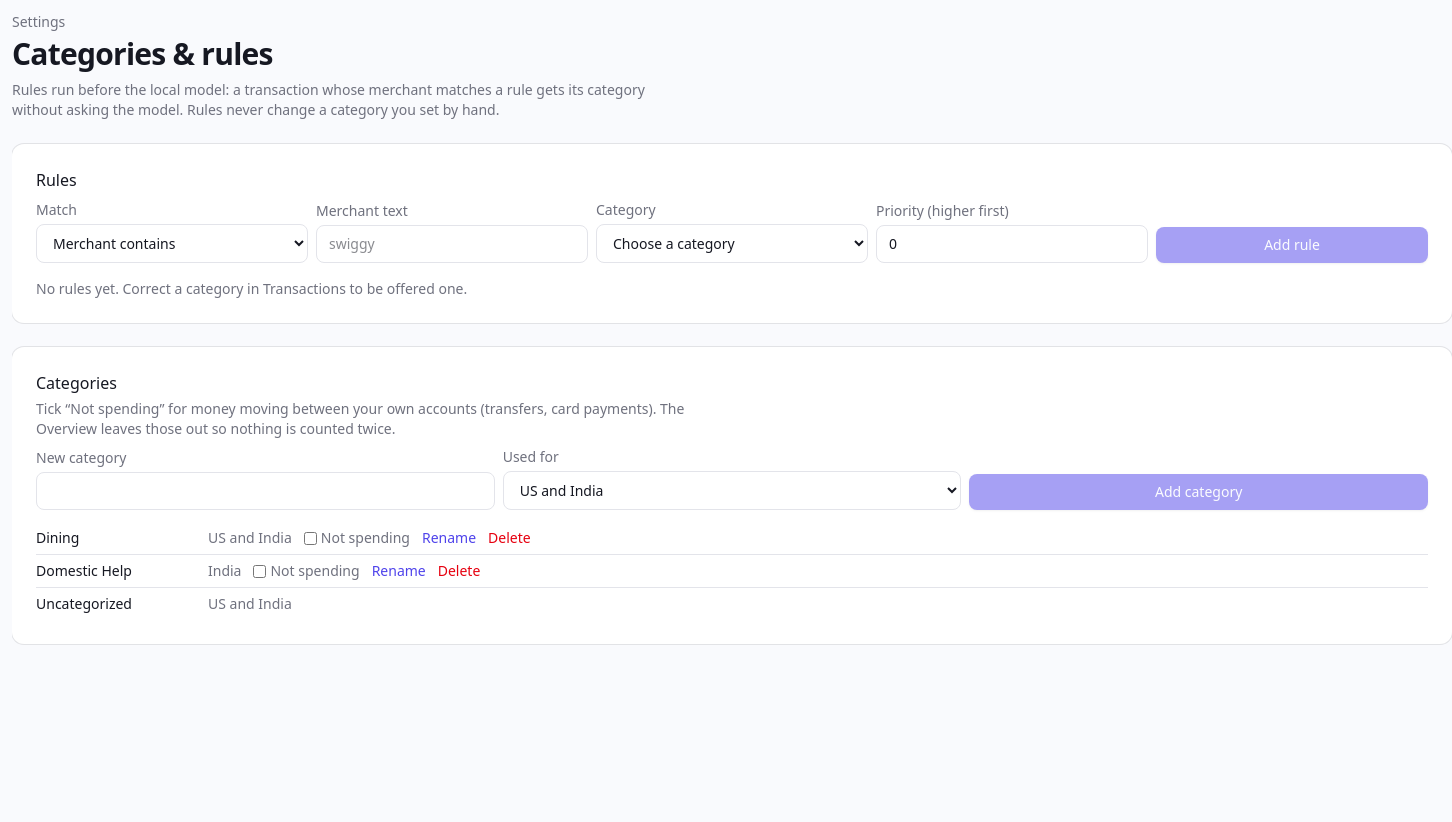
a category can be left out of spending totals
This screenshot has width=1452, height=822.
Expected: the button with aria-label "Rename Dining" is shown, [422,528,476,548]
Click the checkbox labelled "Not spending" in the row of "Dining" at x=310, y=538, box [304,532,317,544]
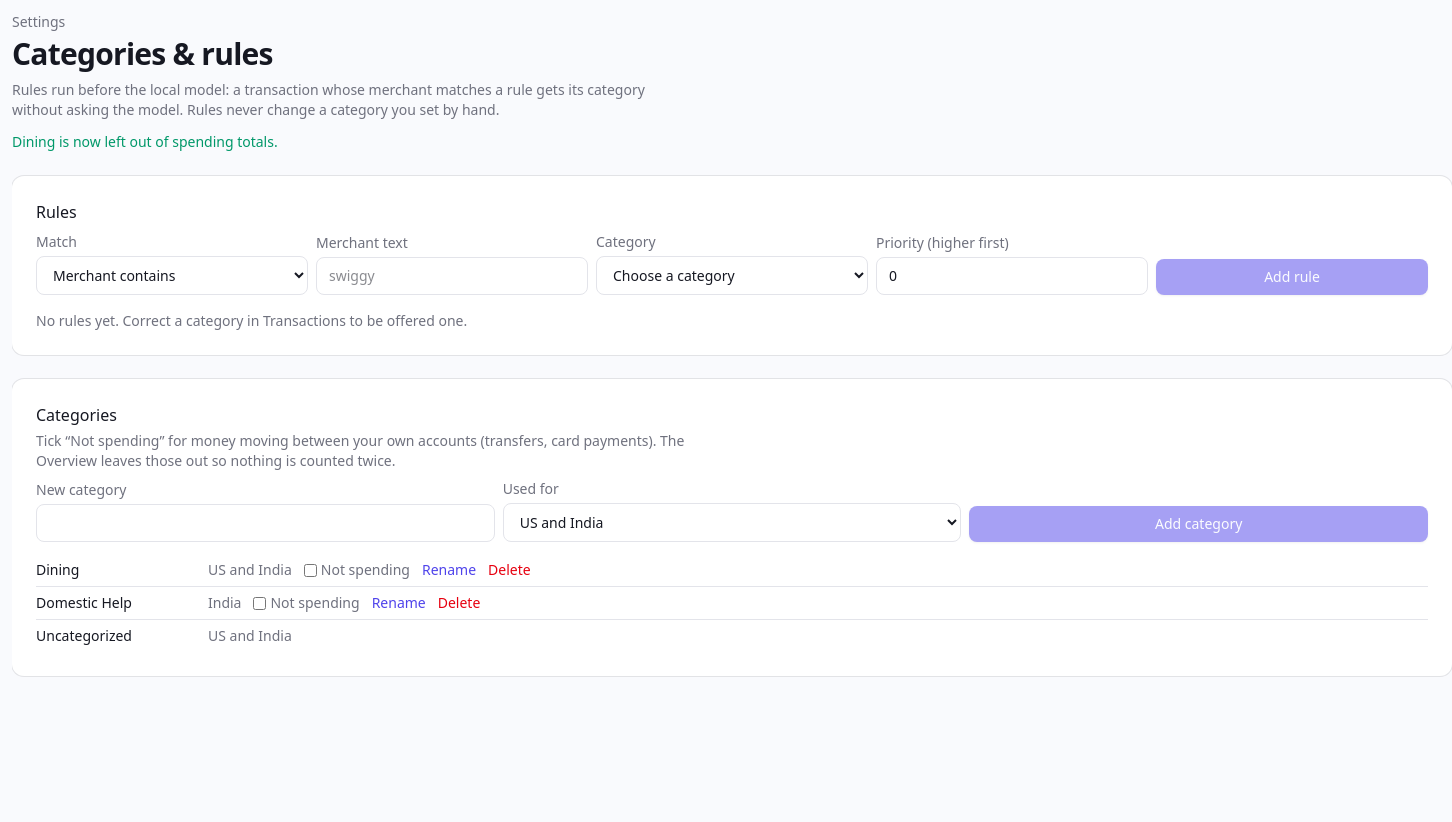
Result: the text "Dining is now left out of spending totals." is shown at [12,132,278,151]
